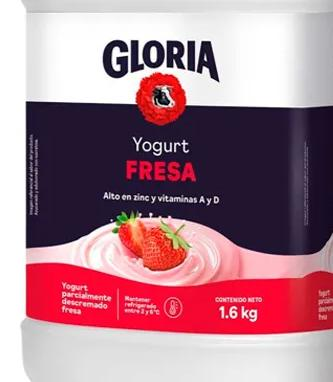brand: (100, 33, 225, 85)
net_weight: (214, 303, 269, 325)
product_name: (115, 130, 204, 185)
